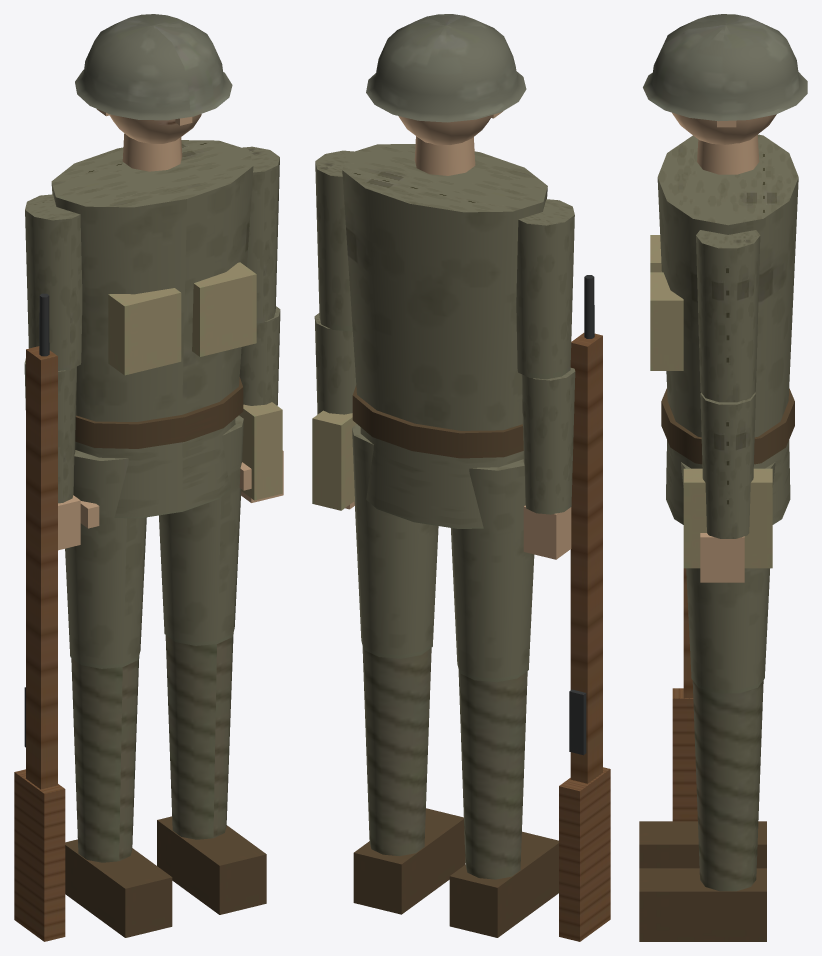
File: infantry-1.glb
3 views of the same model, side by side, from view 1: azimuth 30°, elevation 25°; view 2: azimuth 150°, elevation 25°; view 3: azimuth 270°, elevation 25° (orthographic).
Visible parts, largest first — view 1: body, rifle, shin_left, shin_right, head, leg_right, leg_left, arm_right, arm_left, forearm_right, forearm_left; view 2: body, rifle, shin_left, shin_right, head, leg_right, leg_left, arm_right, forearm_right, arm_left, forearm_left; view 3: body, shin_left, head, arm_left, leg_left, forearm_left, rifle, shin_right.
Boxes of the visible parts, x1=… form: body: x1=51, y1=140, x2=282, y2=518; rifle: x1=14, y1=293, x2=65, y2=941; shin_left: x1=157, y1=633, x2=266, y2=914; shin_right: x1=65, y1=656, x2=172, y2=937; head: x1=75, y1=14, x2=232, y2=171; leg_right: x1=65, y1=450, x2=146, y2=668; leg_left: x1=159, y1=415, x2=243, y2=645; arm_right: x1=25, y1=194, x2=82, y2=370; arm_left: x1=242, y1=146, x2=279, y2=323; forearm_right: x1=24, y1=358, x2=99, y2=550; forearm_left: x1=239, y1=306, x2=283, y2=502; body: x1=312, y1=144, x2=547, y2=528; rifle: x1=559, y1=275, x2=610, y2=941; shin_left: x1=353, y1=647, x2=465, y2=914; shin_right: x1=449, y1=670, x2=558, y2=937; head: x1=366, y1=14, x2=526, y2=175; leg_right: x1=451, y1=459, x2=534, y2=682; leg_left: x1=352, y1=424, x2=438, y2=658; arm_right: x1=516, y1=199, x2=574, y2=379; forearm_right: x1=521, y1=368, x2=575, y2=559; arm_left: x1=315, y1=150, x2=353, y2=331; forearm_left: x1=314, y1=313, x2=356, y2=509; body: x1=650, y1=134, x2=798, y2=568; shin_left: x1=639, y1=680, x2=766, y2=941; head: x1=643, y1=14, x2=807, y2=174; arm_left: x1=696, y1=230, x2=760, y2=402; leg_left: x1=681, y1=462, x2=775, y2=693; forearm_left: x1=700, y1=392, x2=755, y2=582; rifle: x1=672, y1=568, x2=697, y2=821; shin_right: x1=639, y1=821, x2=766, y2=868.
Size of the model in its own units: 0.5496 by 1.75 by 0.3032.
7 materials, 7 textured.
